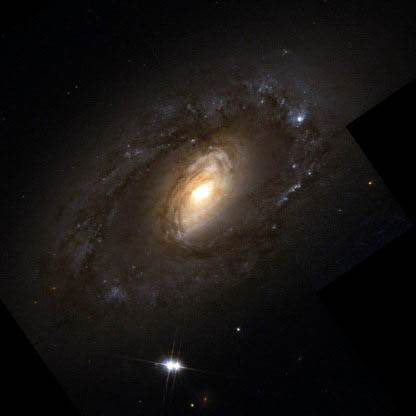NGC 4102: (50, 56, 344, 378)
